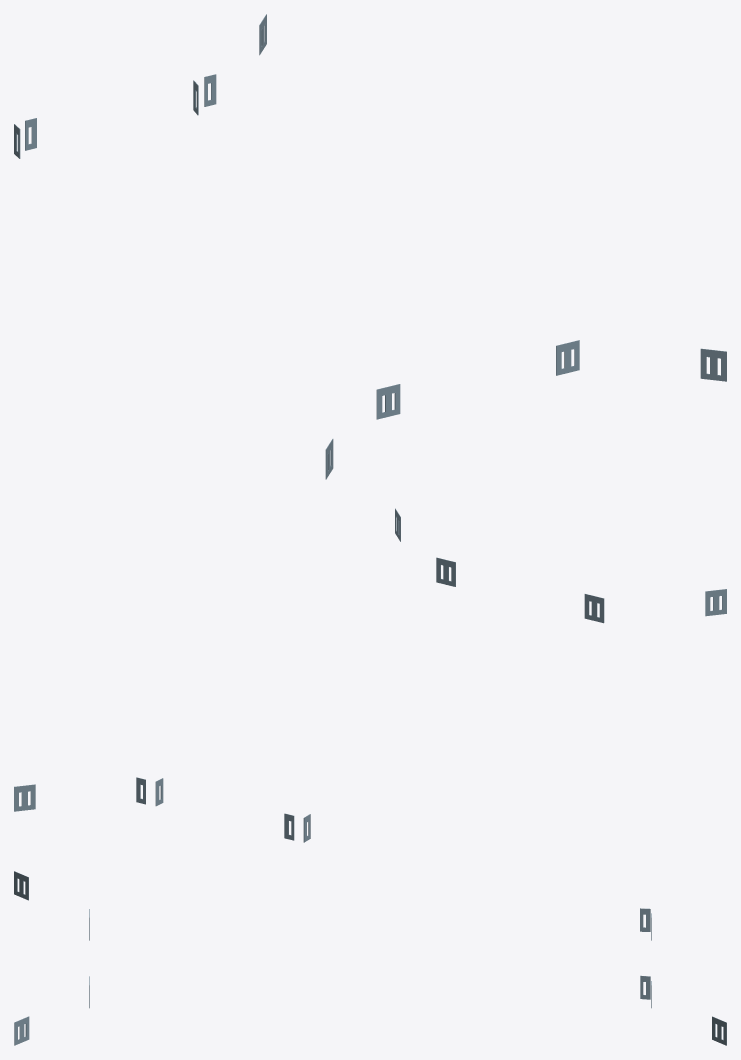
File: DoorsLabP1.dae
The picture shows the model from 3 angles, top to bottom: view 1: azimuth 30°, elevation 25°; view 2: azimuth 150°, elevation 25°; view 3: azimuth 270°, elevation 25°; orthographic projection. The views are drawn at different scales.
Visible parts, largest first — view 1: DoorsLabP1; view 2: DoorsLabP1; view 3: DoorsLabP1.
Boxes of the visible parts, x1=… form: DoorsLabP1: x1=14, y1=14, x2=726, y2=479; DoorsLabP1: x1=14, y1=508, x2=726, y2=842; DoorsLabP1: x1=14, y1=871, x2=726, y2=1045.
Size of the model in its own units: 3098 by 6156 by 220.
Materials: 1 (1 with a texture image).
